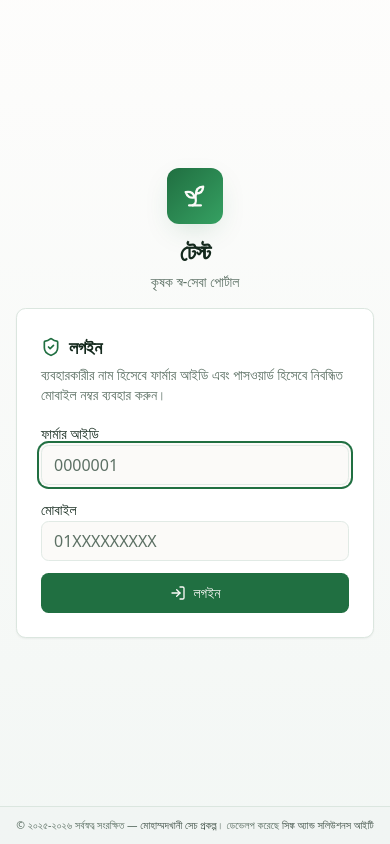
Test: FarmerPortalLogin (id + mobile flow) › requires both farmer ID and mobile before submitting
Click the button at (195, 593), box 41,573 -> 349,613
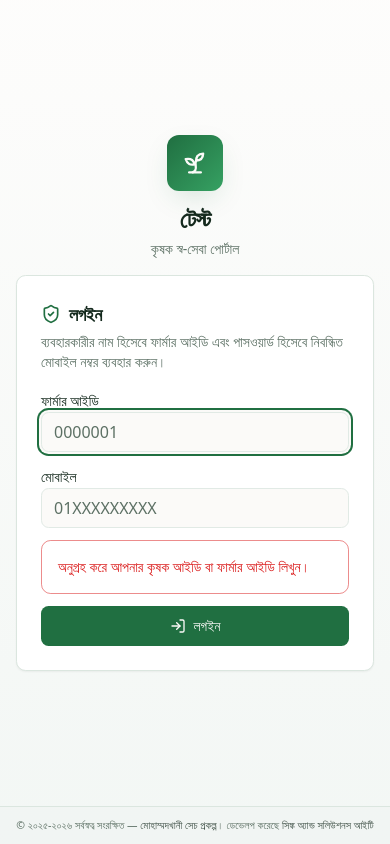
Expected: the message "অনুগ্রহ করে আপনার কৃষক আইডি বা ফার্মার আইডি লিখুন।" is shown, 41,540 -> 349,594
